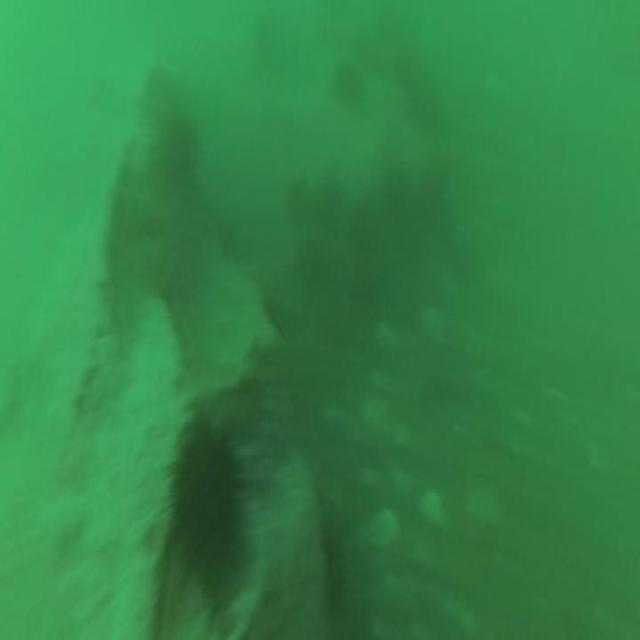echinus: (172, 430, 238, 578), (162, 117, 196, 175), (334, 66, 359, 105)
